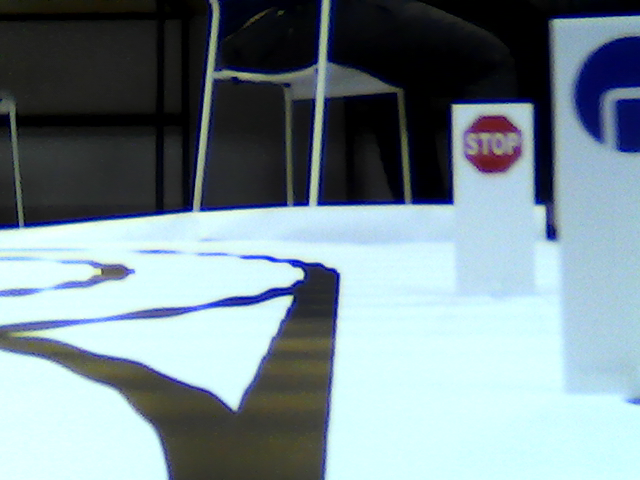Stop: (460, 112, 525, 177)
